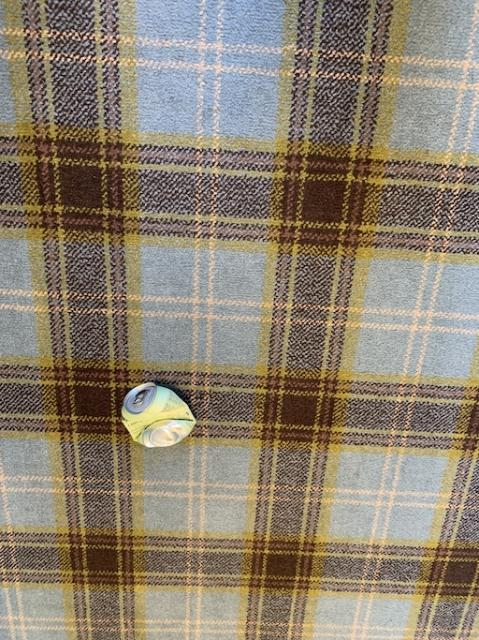metal: (121, 381, 194, 446)
